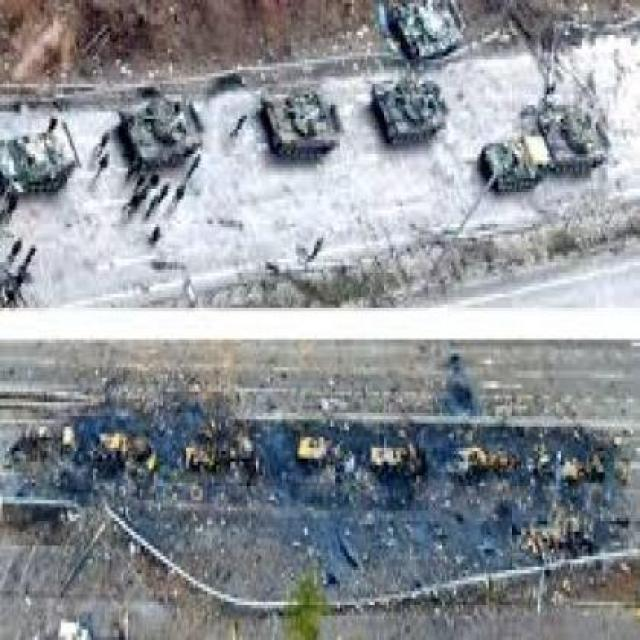tank: (526, 95, 612, 170), (116, 91, 204, 154), (4, 116, 72, 193), (266, 94, 340, 162), (388, 5, 471, 60), (376, 80, 448, 142), (486, 138, 544, 194)
